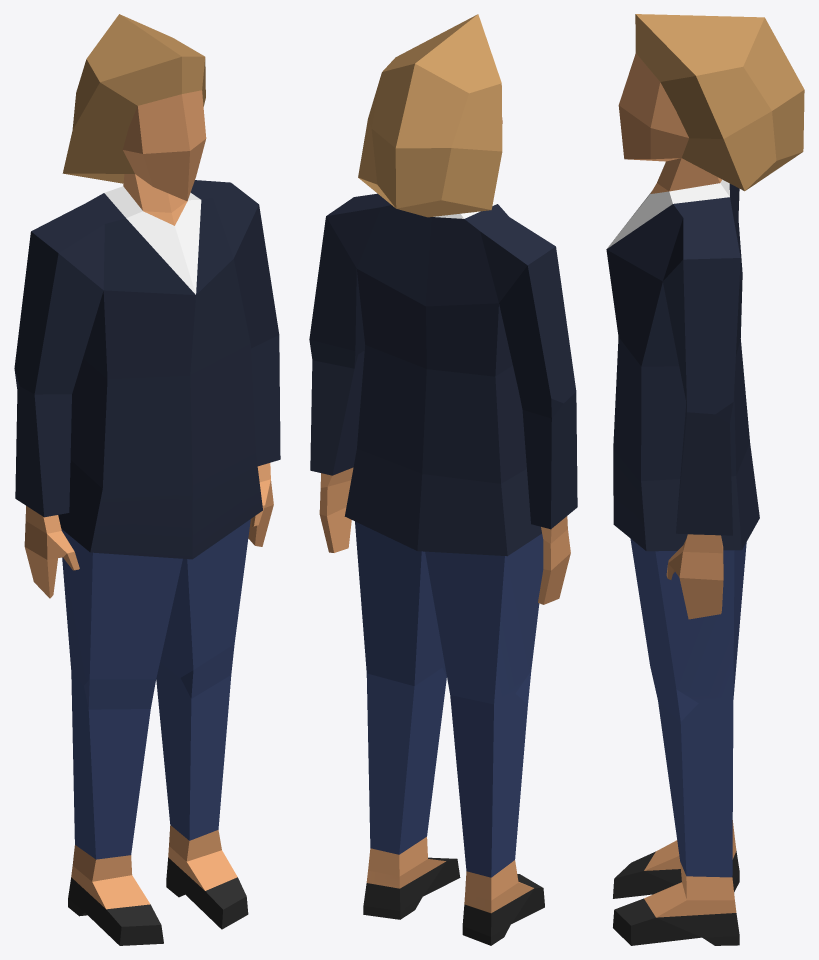
Rendered from people_woman-suit.fbx.
3 views of the same model, side by side, from view 1: azimuth 30°, elevation 25°; view 2: azimuth 150°, elevation 25°; view 3: azimuth 270°, elevation 25° (orthographic). The views are drawn at different scales.
Visible parts, largest first — view 1: people_woman_suit; view 2: people_woman_suit; view 3: people_woman_suit.
Part boxes in pixels (x1,y1,x2,y2): people_woman_suit: (14, 14, 280, 945); people_woman_suit: (309, 14, 577, 945); people_woman_suit: (606, 14, 804, 945).
Bounding box in the file's own units: 59.3 × 200 × 39.92.
